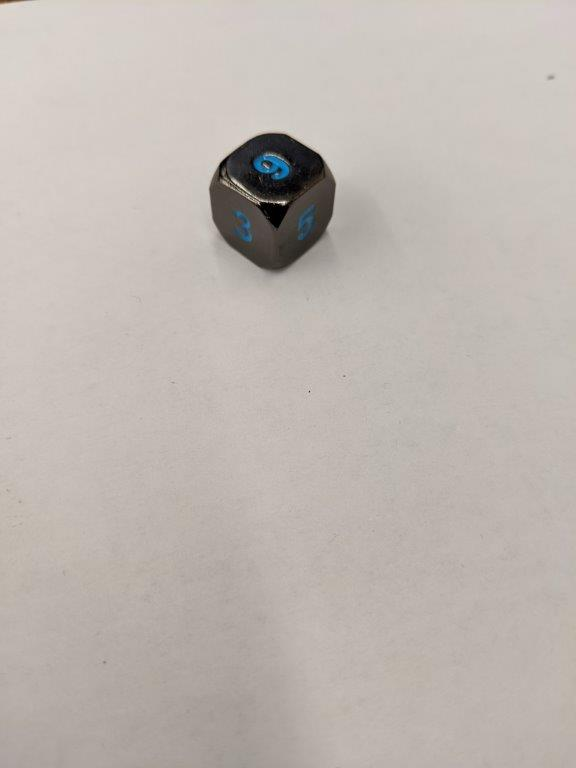d6-6: (206, 133, 336, 272)
